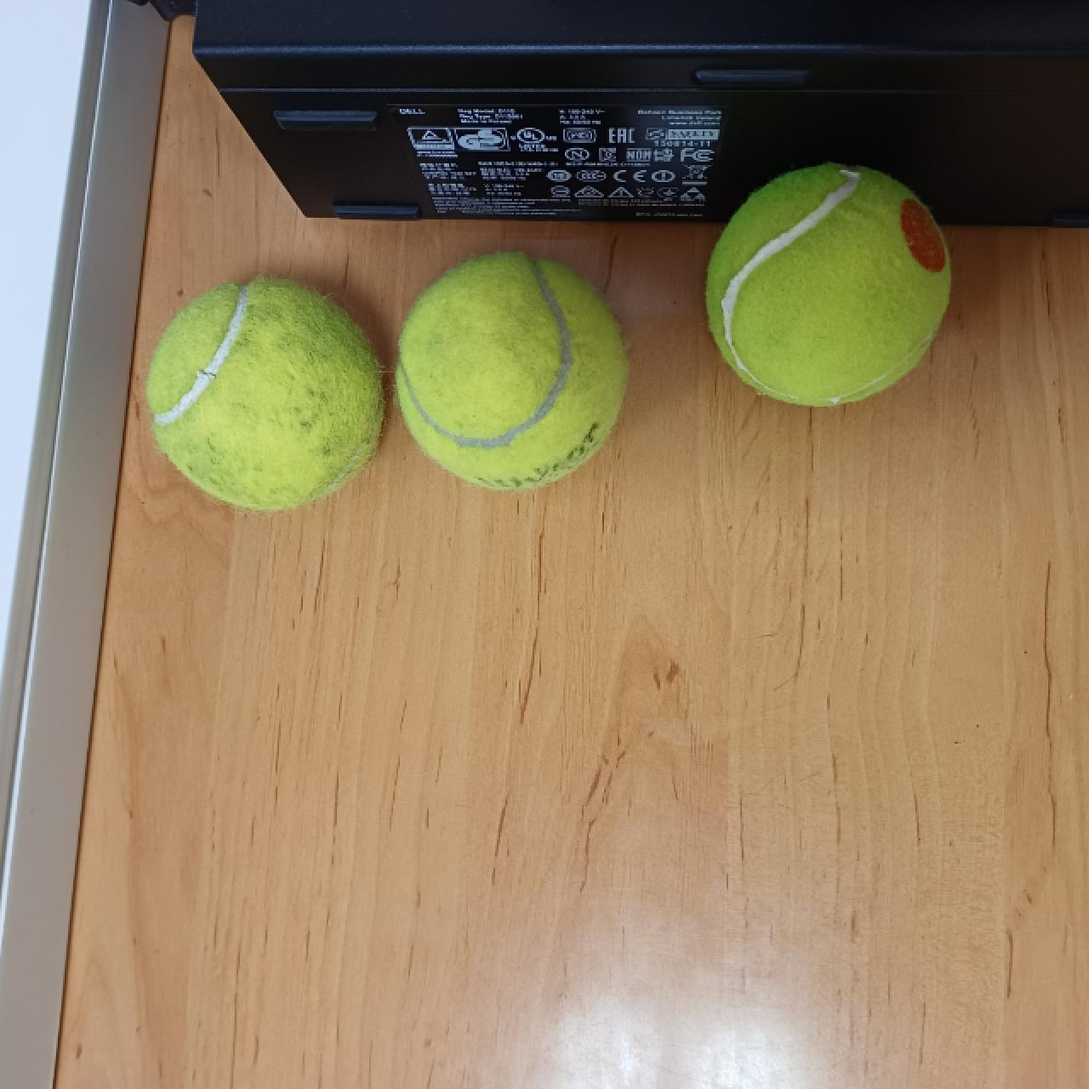tennis-ball: (702, 161, 954, 405), (390, 248, 633, 493), (142, 275, 387, 513)
